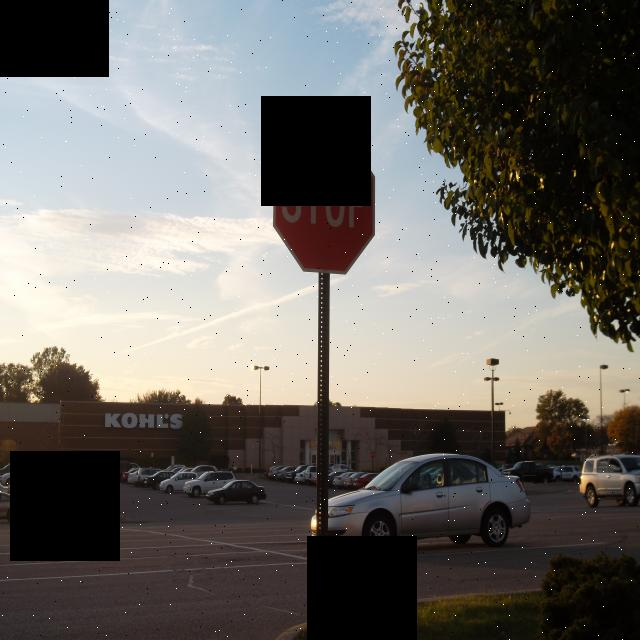stop: (268, 117, 378, 280)
